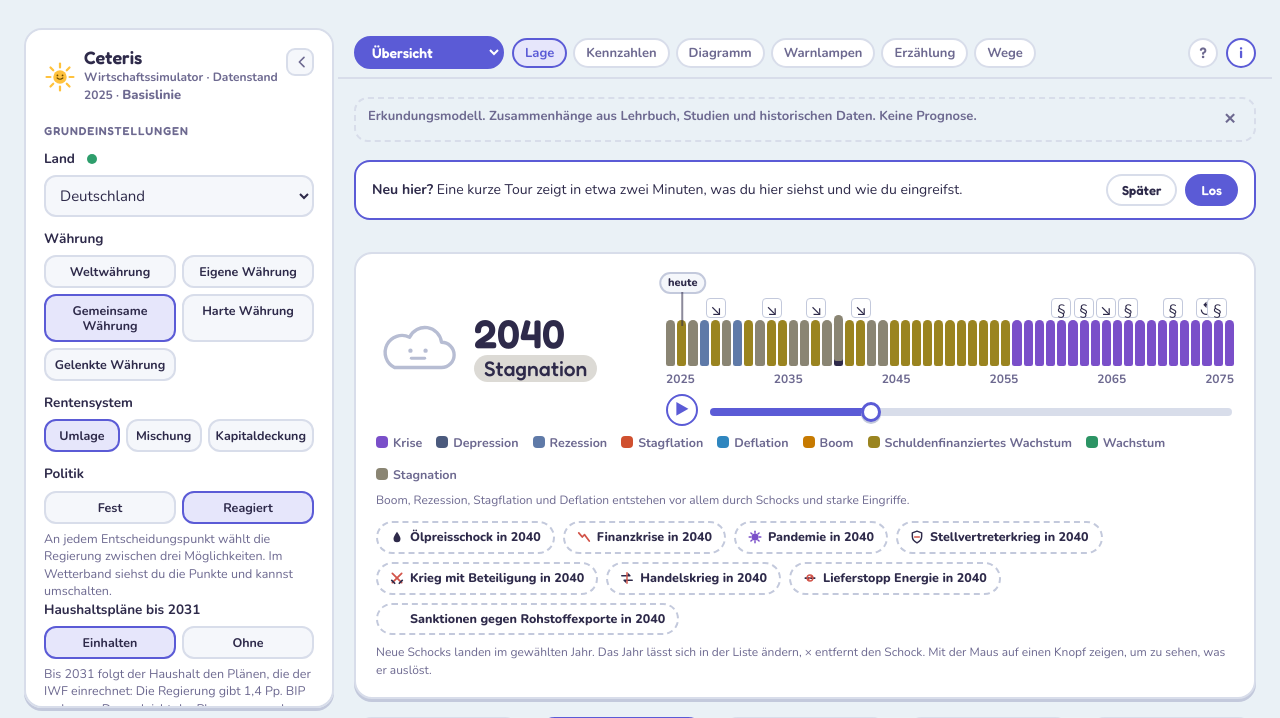
Test: Wetterband › Band hat ein Feld pro Jahr und springt beim Klick
This screenshot has width=1280, height=718.
Click the button named "2028: Rezession" at (704, 342), box left=700, top=320, right=709, bottom=366
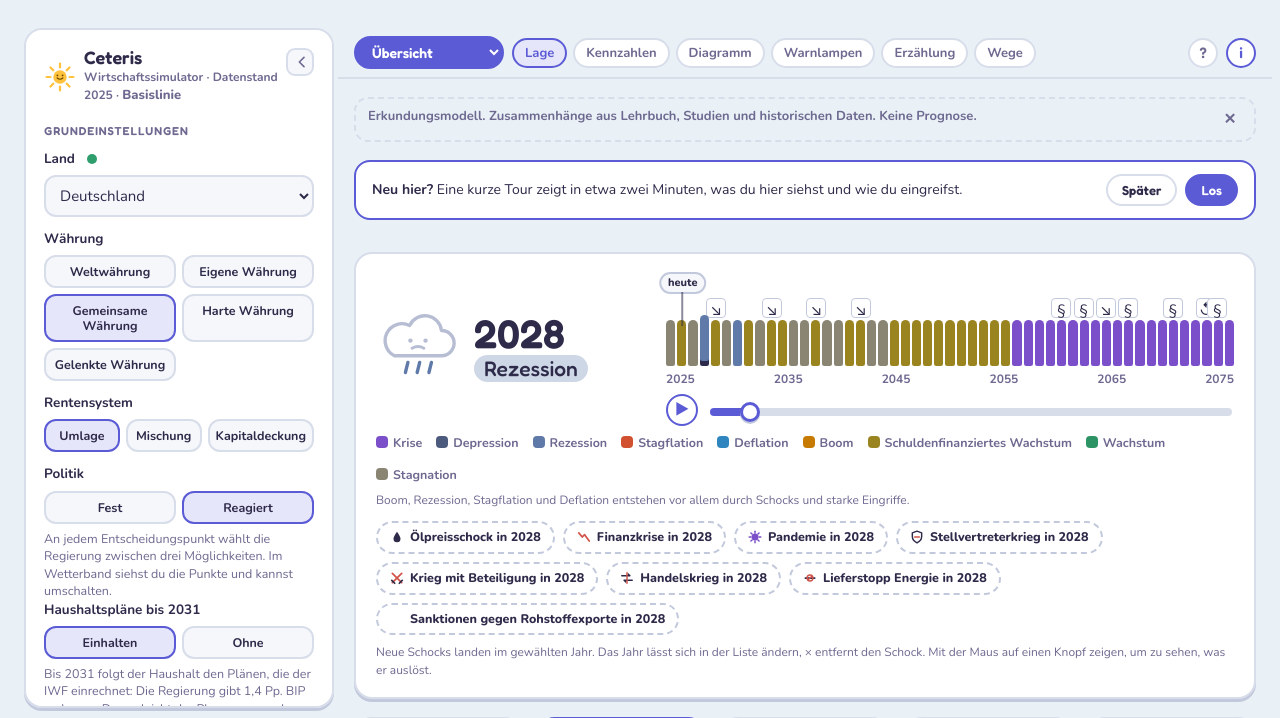
Expected: the text named "Gewähltes Jahr" reads "2028", left=474, top=309, right=565, bottom=357
